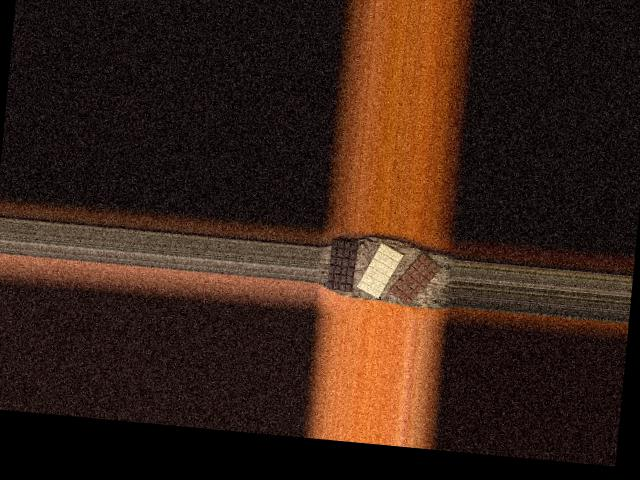chocolate: (325, 237, 357, 292)
